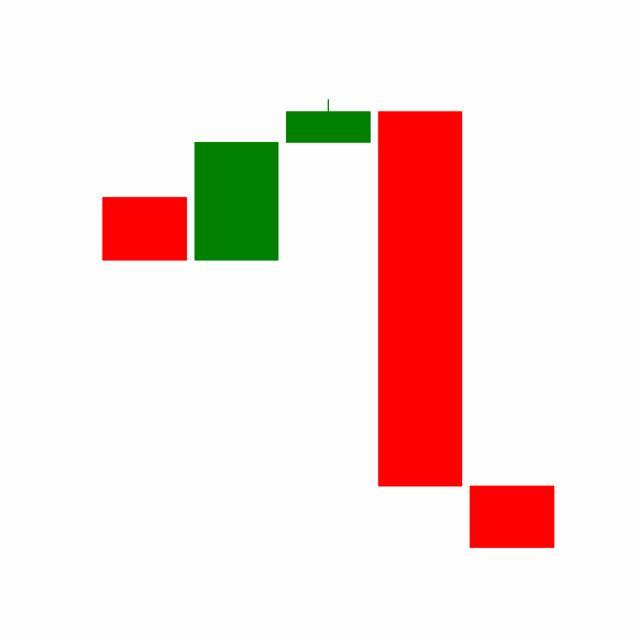Marubozu: (374, 107, 468, 491)
